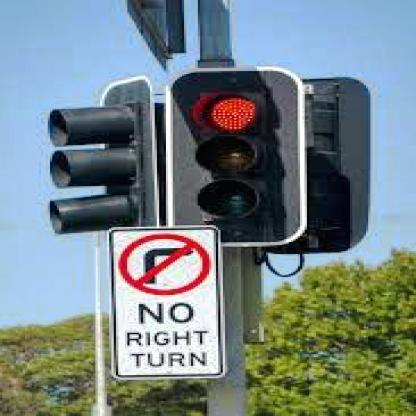No right turn: (101, 226, 231, 296)
